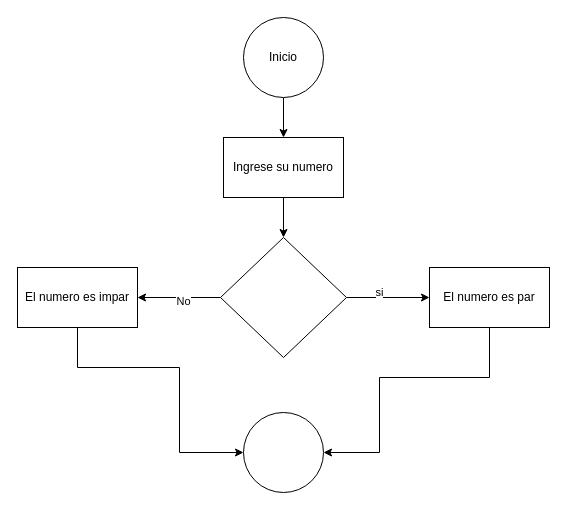
The diagram is 567 pixels wide and 510 high, and some of its shapes have lost their labels. The centre of each missing label's shape, as x and y in pixels:
El numero dividio para 2 da residuo 0: the point at 283,297
Fin: the point at 283,452
